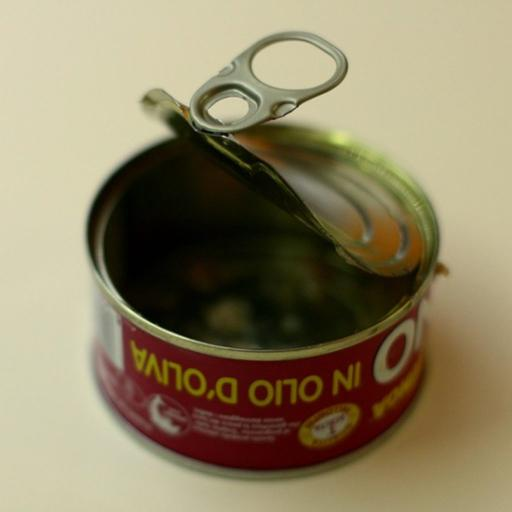can: (84, 29, 442, 485)
